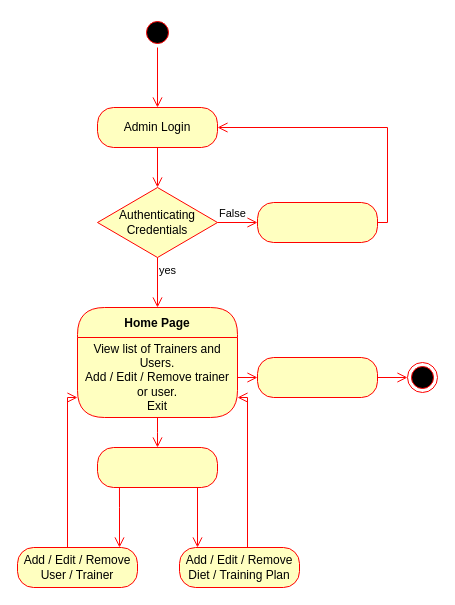
This 455x605 diagram has some shape labels left out. Here are the shapes that lost their labels. From the top down, the centre of each, then its label:
point (317, 222): Output Error: "Wrong Username or Password"
point (317, 377): Exit logout()
point (157, 467): View Users / Trainers
